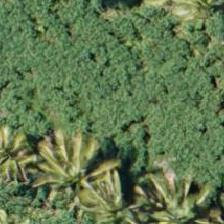coconut_tree: (31, 121, 121, 211), (135, 176, 223, 223)
